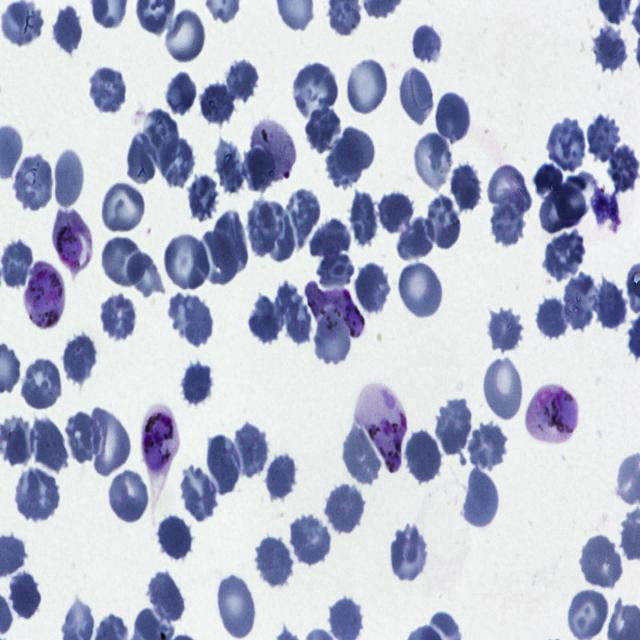difficult: (527, 386, 580, 446), (22, 262, 66, 332), (51, 208, 94, 274)
red blood cell: (291, 60, 341, 122), (577, 531, 625, 593), (342, 419, 386, 486), (397, 259, 445, 320), (90, 407, 131, 478), (216, 571, 257, 640), (482, 356, 524, 423), (274, 280, 313, 349), (162, 6, 208, 64), (168, 288, 214, 346), (14, 467, 61, 523), (412, 130, 454, 192), (314, 303, 354, 368), (107, 467, 151, 526), (346, 57, 390, 116), (389, 522, 430, 585), (462, 466, 501, 532), (212, 208, 251, 274), (560, 270, 598, 337), (100, 180, 147, 234), (164, 233, 209, 289), (139, 109, 179, 172), (204, 432, 242, 498), (284, 185, 322, 251), (13, 153, 54, 214), (100, 232, 146, 286), (178, 463, 219, 523), (538, 185, 587, 235), (435, 396, 475, 457), (197, 228, 239, 286), (488, 165, 532, 220), (257, 201, 296, 263), (29, 414, 68, 476), (426, 192, 464, 254), (325, 136, 367, 192), (288, 514, 332, 567), (324, 481, 366, 536), (21, 356, 63, 411), (125, 127, 161, 191), (546, 118, 588, 172), (404, 428, 443, 486), (155, 136, 196, 191), (544, 229, 588, 280), (254, 534, 294, 589), (232, 420, 269, 479), (52, 147, 86, 211), (124, 251, 168, 300), (353, 261, 392, 316), (147, 571, 186, 626), (399, 66, 433, 129), (334, 127, 376, 178), (568, 588, 610, 639), (590, 21, 630, 74), (86, 67, 126, 117), (60, 331, 96, 386), (98, 293, 136, 345), (213, 137, 247, 195), (489, 192, 526, 245), (437, 90, 472, 146), (587, 113, 625, 164), (348, 190, 380, 250), (592, 277, 628, 330), (487, 302, 524, 353), (398, 215, 439, 261), (198, 80, 236, 129), (246, 200, 278, 257), (163, 70, 200, 119), (606, 142, 640, 195), (156, 515, 194, 562), (264, 451, 299, 502), (9, 569, 42, 623), (304, 106, 341, 154), (66, 411, 100, 463), (308, 217, 352, 257), (451, 161, 484, 214), (378, 190, 415, 237), (226, 57, 260, 108), (408, 21, 444, 69), (468, 427, 509, 468), (180, 359, 214, 408), (186, 174, 220, 223), (249, 296, 282, 344), (1, 241, 34, 288), (52, 3, 82, 54), (538, 297, 570, 341), (317, 251, 355, 287)
ring: (247, 119, 296, 184)
schizont: (138, 404, 180, 504)
trophozoite: (353, 378, 408, 474), (304, 279, 366, 343)
